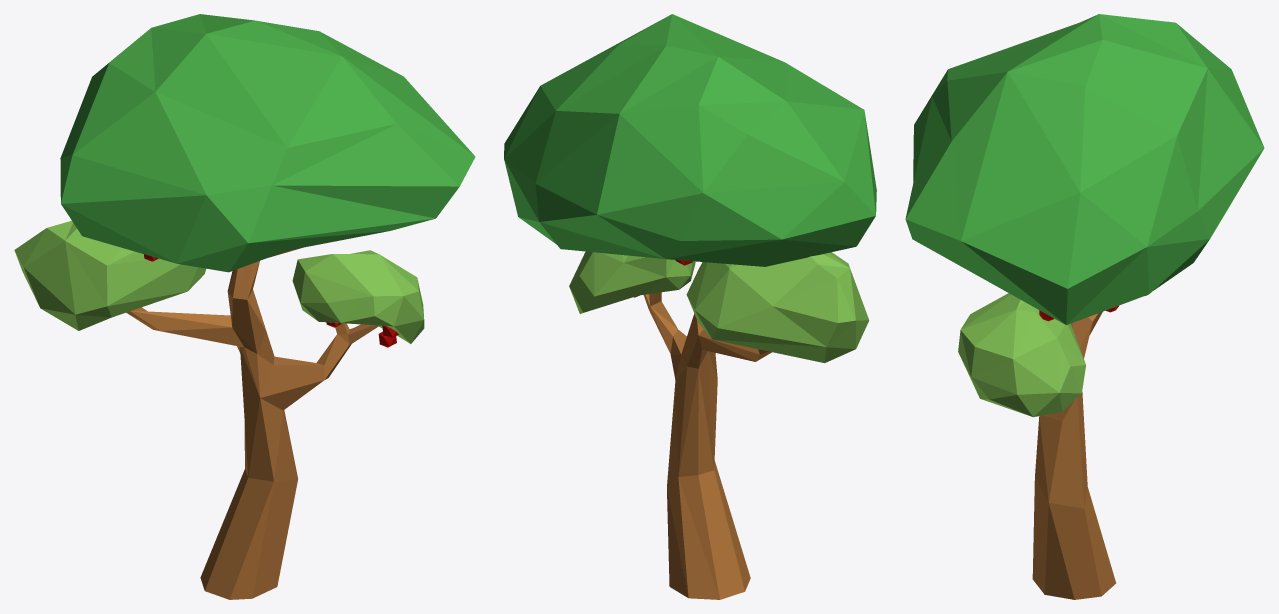
The model's file is tree_06.glb.
The picture shows the model from 3 angles, left to right: view 1: azimuth 30°, elevation 25°; view 2: azimuth 150°, elevation 25°; view 3: azimuth 270°, elevation 25°; orthographic projection. The views are drawn at different scales.
Parts seen in each view (by area): view 1: Lowpoly_Tree_06_Material.002_0, Lowpoly_Tree_06_Material_0, Lowpoly_Tree_06_Material.001_0; view 2: Lowpoly_Tree_06_Material.002_0, Lowpoly_Tree_06_Material.001_0, Lowpoly_Tree_06_Material_0; view 3: Lowpoly_Tree_06_Material.002_0, Lowpoly_Tree_06_Material_0, Lowpoly_Tree_06_Material.001_0.
Part boxes in pixels (left/top/right/bottom): Lowpoly_Tree_06_Material.002_0: left=60, top=14, right=475, bottom=272; Lowpoly_Tree_06_Material_0: left=126, top=247, right=379, bottom=599; Lowpoly_Tree_06_Material.001_0: left=14, top=220, right=424, bottom=343; Lowpoly_Tree_06_Material.002_0: left=504, top=14, right=876, bottom=266; Lowpoly_Tree_06_Material.001_0: left=569, top=251, right=869, bottom=363; Lowpoly_Tree_06_Material_0: left=643, top=262, right=771, bottom=599; Lowpoly_Tree_06_Material.002_0: left=905, top=14, right=1264, bottom=324; Lowpoly_Tree_06_Material_0: left=1032, top=311, right=1116, bottom=599; Lowpoly_Tree_06_Material.001_0: left=958, top=293, right=1085, bottom=417.
Size of the model in its own units: 1.38 by 1.83 by 1.07.
